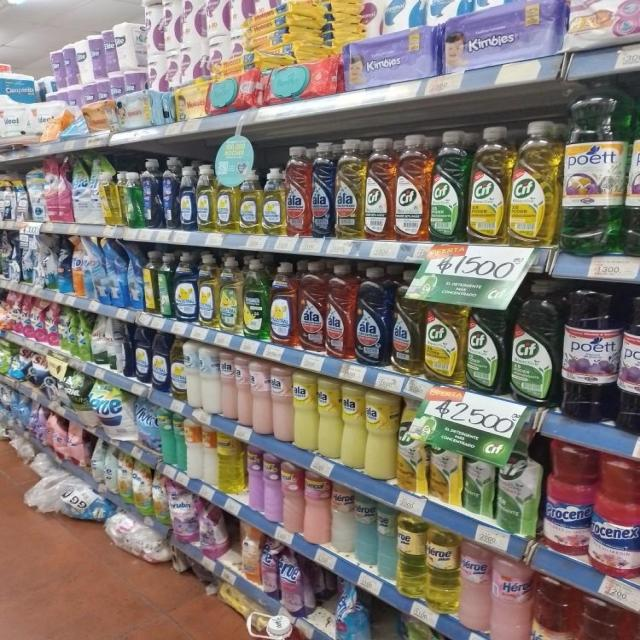ala_conc_amarillo: (392, 267, 423, 375), (335, 138, 364, 240)
ala_conc_azul: (356, 266, 390, 366), (310, 141, 334, 238)
ala_conc_rojo: (325, 264, 354, 359), (298, 261, 325, 353), (286, 144, 310, 238)
ala_crem_amarillo: (366, 388, 396, 480), (342, 382, 365, 470), (293, 370, 316, 451), (318, 377, 340, 459)
ala_crem_rosado: (220, 350, 236, 419), (236, 354, 250, 422)
cif_conc_bot_amarilla: (510, 119, 558, 246), (468, 125, 508, 244), (424, 274, 464, 384)
cif_conc_botella_roja: (396, 133, 430, 241), (365, 135, 395, 241)
cif_conc_botella_verde: (510, 280, 559, 407), (466, 278, 507, 394), (431, 130, 466, 242)
cif_conc_sachet_amarillo: (397, 400, 426, 492)
cif_conc_sachet_verde: (496, 441, 539, 535), (464, 456, 493, 516)
heroe: (491, 557, 533, 640), (426, 525, 459, 615), (460, 542, 491, 632)
magistral_con_amarillo: (238, 168, 261, 234), (262, 167, 284, 236), (198, 253, 218, 327), (215, 165, 236, 233), (196, 164, 214, 232), (171, 336, 186, 401)
magistral_con_azul: (174, 252, 197, 322), (178, 163, 196, 231), (152, 330, 169, 390), (134, 327, 150, 384)
magistral_con_rojo: (270, 260, 297, 346)
